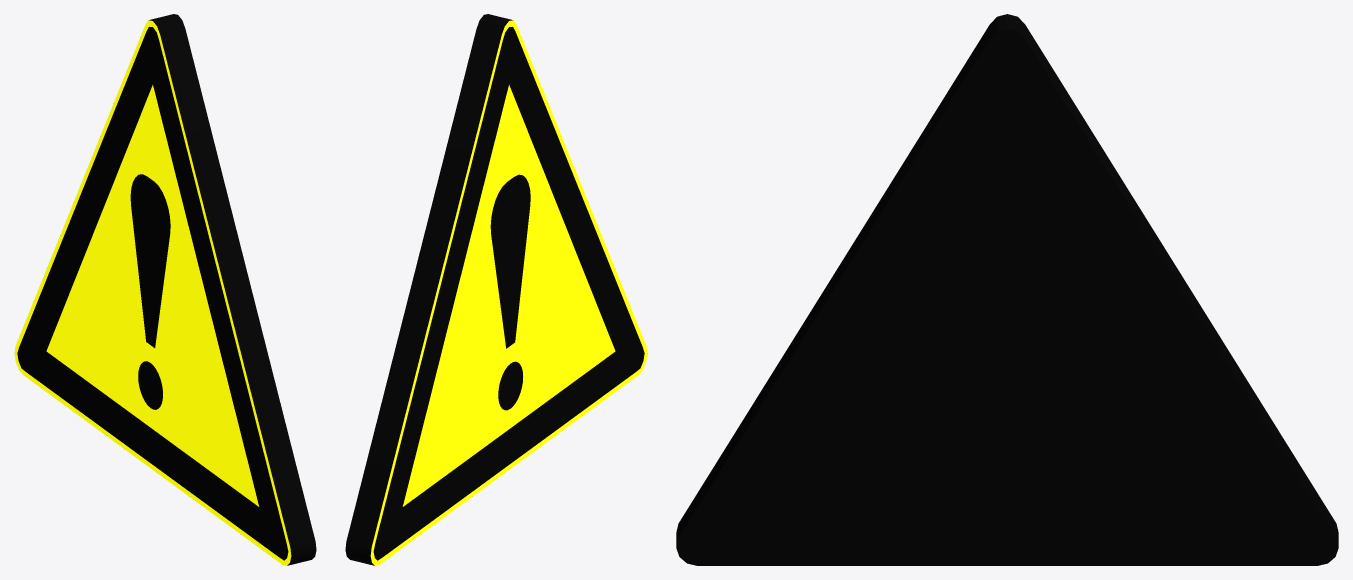
The model's file is Attention.glb.
3 views of the same model, side by side, from view 1: azimuth 30°, elevation 25°; view 2: azimuth 150°, elevation 25°; view 3: azimuth 270°, elevation 25° (orthographic). The views are drawn at different scales.
Parts seen in each view (by area): view 1: Attention; view 2: Attention; view 3: Attention.
Boxes of the visible parts, x1,y1,x2,y2 form: Attention: [14, 14, 316, 565]; Attention: [345, 14, 647, 565]; Attention: [676, 14, 1338, 565].
Bounding box in the file's own units: 0.0646 × 1.02 × 1.14.
